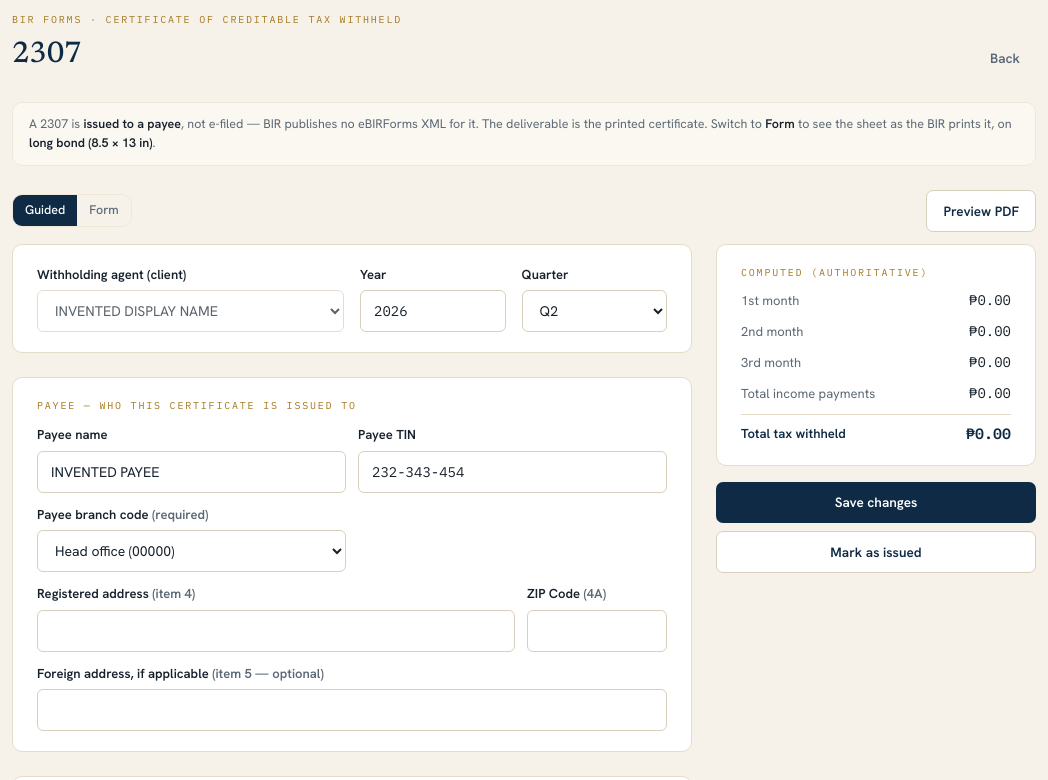
Test: C7 the 2307 prints through the server (D56) › a draft whose client has no BIR registered name is refused in the editor's words, before any request
Click the button "Preview PDF": (981, 211) [926, 190, 1036, 232]
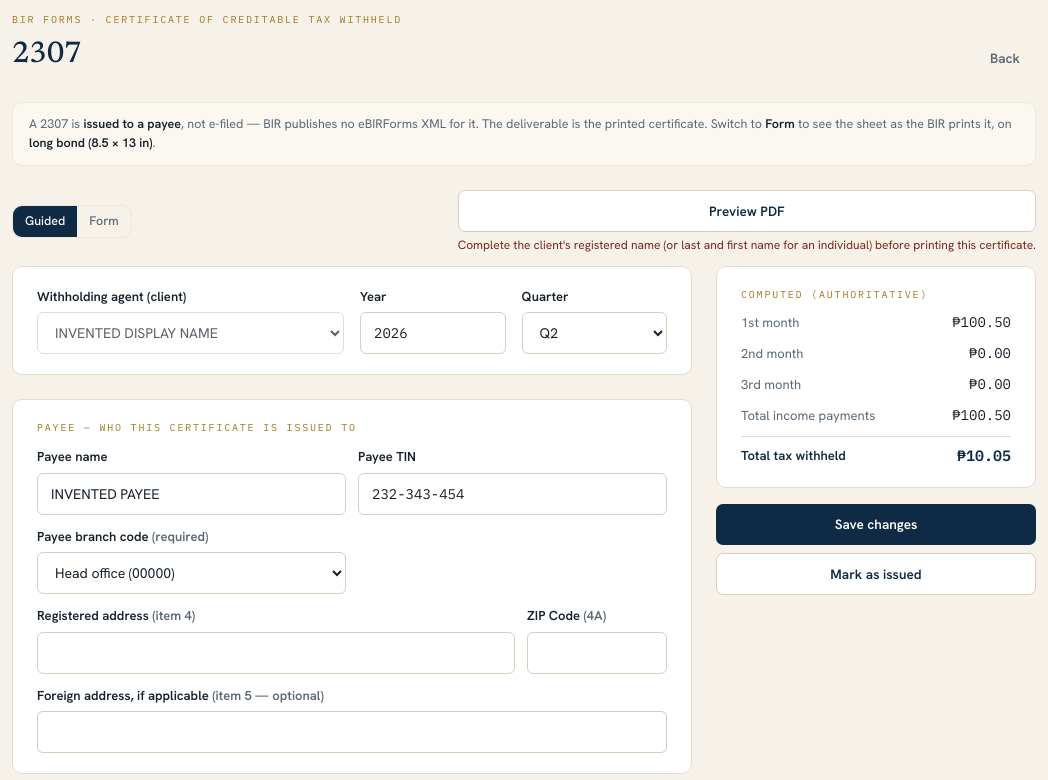
Check: the text "Complete the client's registered name (or last and first name for an individual) before printing this certificate." is shown, box [458, 237, 1036, 253]
